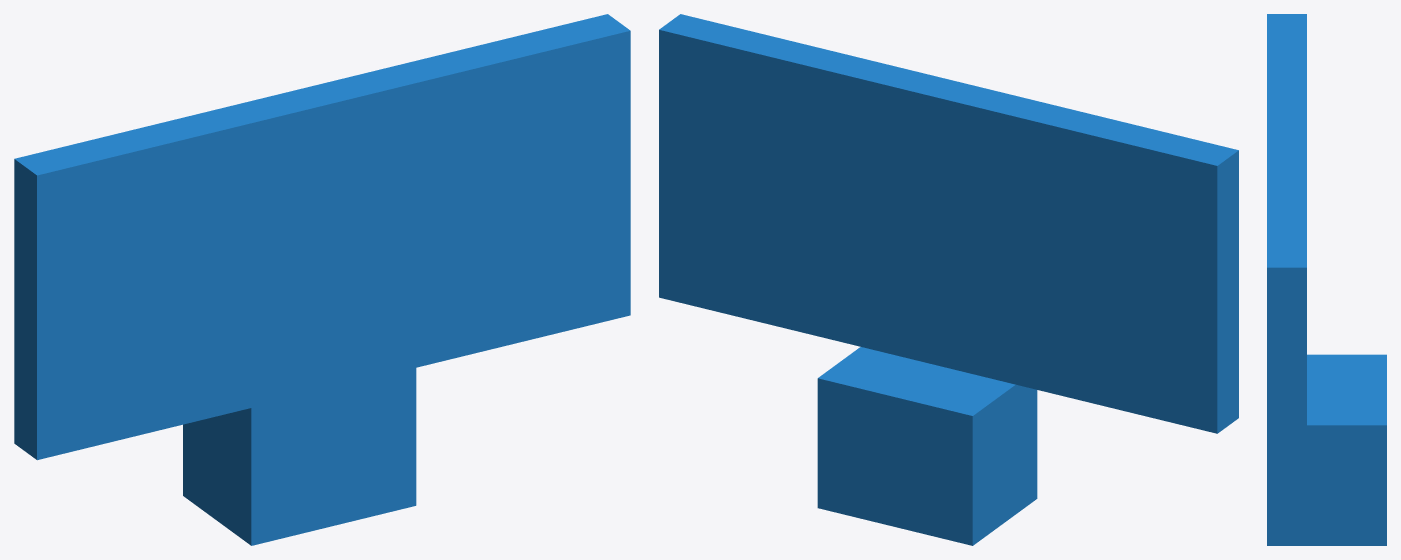
The model's file is mag_comporta.glb.
3 renders of one model, left to right at view 1: azimuth 30°, elevation 25°; view 2: azimuth 150°, elevation 25°; view 3: azimuth 270°, elevation 25°, orthographic. The views are drawn at different scales.
Parts seen in each view (by area): view 1: mag_comporta; view 2: mag_comporta; view 3: mag_comporta.
Part boxes in pixels (x1,y1,x2,y2): mag_comporta: [14, 14, 630, 545]; mag_comporta: [659, 14, 1238, 545]; mag_comporta: [1267, 14, 1386, 545].
Size of the model in its own units: 36 by 24.5 by 7.2.
